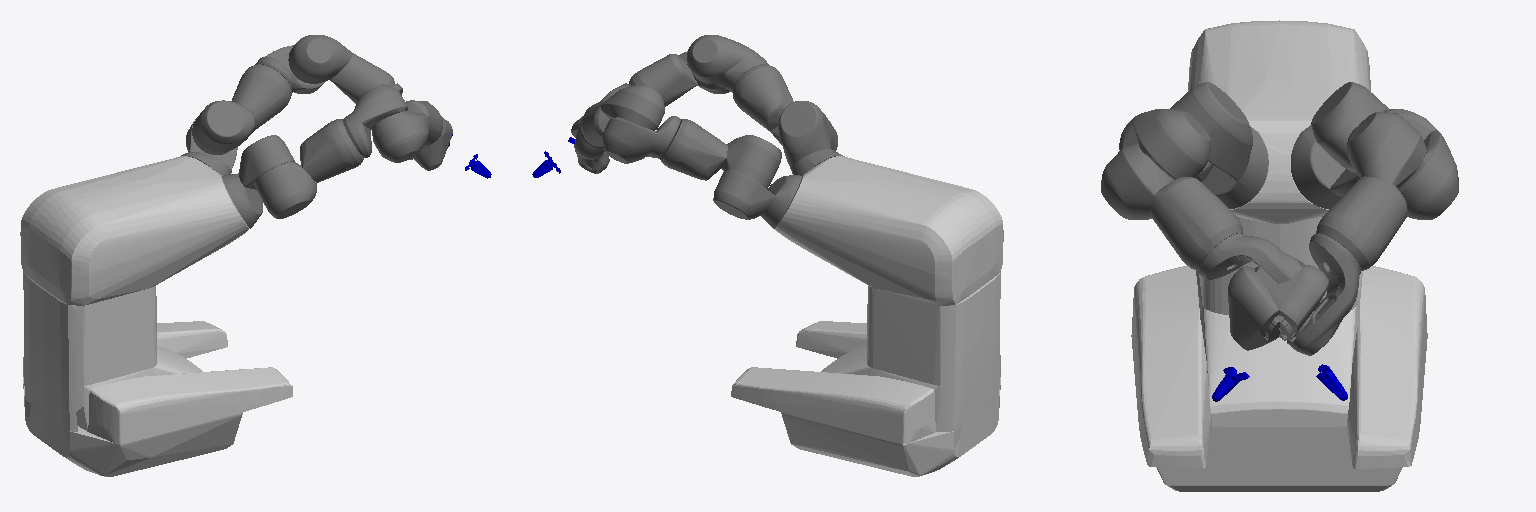
--- Render facts (derived) ---
The picture shows the robot from 3 angles, left to right: view 1: azimuth 30°, elevation 25°; view 2: azimuth 150°, elevation 25°; view 3: azimuth 270°, elevation 25°; orthographic projection.
Model yumi with 22 links and 21 joints (14 revolute, 4 prismatic, 3 fixed), rooted at yumi_base_link, posed all joints at 0.
Visible links, largest first — view 1: yumi_body, yumi_link_2_r, yumi_link_2_l, yumi_link_4_l, yumi_link_4_r, yumi_link_1_r, yumi_link_3_r, yumi_link_3_l, yumi_link_1_l, yumi_link_6_r; view 2: yumi_body, yumi_link_2_l, yumi_link_1_l, yumi_link_1_r, yumi_link_2_r, yumi_link_3_r, yumi_link_4_l, yumi_link_3_l, yumi_link_4_r, yumi_link_5_l; view 3: yumi_body, yumi_link_4_l, yumi_link_4_r, yumi_link_1_r, yumi_link_3_r, yumi_link_5_l, yumi_link_3_l, yumi_link_2_l, yumi_link_1_l, yumi_link_6_r, yumi_link_5_r, yumi_link_6_l.
Link boxes in pixels (x1,y1,x2,y2): yumi_body: (20,156,292,476); yumi_link_2_r: (254,119,363,218); yumi_link_2_l: (192,64,291,154); yumi_link_4_l: (288,35,394,103); yumi_link_4_r: (372,100,442,162); yumi_link_1_r: (222,135,294,228); yumi_link_3_r: (343,84,407,157); yumi_link_3_l: (255,45,325,93); yumi_link_1_l: (181,118,237,175); yumi_link_6_r: (412,119,452,170); yumi_body: (731,156,1003,476); yumi_link_2_l: (660,119,781,188); yumi_link_1_l: (713,170,801,228); yumi_link_1_r: (778,101,844,175); yumi_link_2_r: (733,64,837,150); yumi_link_3_r: (687,35,768,92); yumi_link_4_l: (581,85,664,146); yumi_link_3_l: (602,116,680,163); yumi_link_4_r: (629,51,729,106); yumi_link_5_l: (574,124,609,173); yumi_body: (1131,20,1427,491); yumi_link_4_l: (1316,112,1426,270); yumi_link_4_r: (1101,142,1242,270); yumi_link_1_r: (1170,82,1268,208); yumi_link_3_r: (1119,109,1210,179); yumi_link_5_l: (1287,234,1360,355); yumi_link_3_l: (1395,112,1458,219); yumi_link_2_l: (1311,82,1415,172); yumi_link_1_l: (1291,125,1359,209); yumi_link_6_r: (1228,266,1278,350); yumi_link_5_r: (1199,233,1304,283); yumi_link_6_l: (1255,265,1328,333).
Bounding box of the posed robot: 1.01 × 0.4824 × 0.7318 m (x, y, z).
Meshes: 10 distinct files referenced, 19 mesh visuals loaded (9 Collada DAE); not drawn: 2 (reference not matched to a file when rendering).

robot.urdf — yumi:
<?xml version="1.0" ?>
<!-- =================================================================================== -->
<!-- |    This document was autogenerated by xacro from yumi.urdf.xacro                | -->
<!-- |    EDITING THIS FILE BY HAND IS NOT RECOMMENDED                                 | -->
<!-- =================================================================================== -->
<robot name="yumi" xmlns:xacro="http://www.ros.org/wiki/xacro">
  <material name="Black">
    <color rgba="0.0 0.0 0.0 1.0"/>
  </material>
  <material name="Blue">
    <color rgba="0.0 0.0 0.8 1.0"/>
  </material>
  <material name="Green">
    <color rgba="0.0 0.8 0.0 1.0"/>
  </material>
  <material name="Grey">
    <color rgba="0.5 0.5 0.5 1.0"/>
  </material>
  <material name="Light_Grey">
    <color rgba="0.8 0.8 0.8 1.0"/>
  </material>
  <material name="Ivory">
    <color rgba="1.0 1.0 0.94 1.0"/>
  </material>
  <material name="Orange">
    <color rgba="1.0 0.423529411765 0.0392156862745 1.0"/>
  </material>
  <material name="Brown">
    <color rgba="0.870588235294 0.811764705882 0.764705882353 1.0"/>
  </material>
  <material name="Red">
    <color rgba="0.8 0.0 0.0 1.0"/>
  </material>
  <material name="White">
    <color rgba="1.0 1.0 1.0 1.0"/>
  </material>
  <gazebo>
    <plugin filename="libgazebo_ros_control.so" name="gazebo_ros_controller">
      <robotNamespace>/yumi</robotNamespace>
    </plugin>
  </gazebo>
  <link name="yumi_base_link"/>
  <joint name="yumi_base_link_to_body" type="fixed">
    <parent link="yumi_base_link"/>
    <child link="yumi_body"/>
    <origin rpy="0 0 0" xyz="0 0 0"/>
  </joint>
  <link name="yumi_body">
    <inertial>
      <origin rpy="0 0 0" xyz="0 0 0"/>
      <mass value="15"/>
      <inertia ixx="0.5" ixy="0" ixz="0" iyy="0.6" iyz="0" izz="0.3"/>
    </inertial>
    <visual>
      <origin rpy="0 0 0" xyz="0 0 0"/>
      <geometry>
        <mesh filename="package://meshes_dae/body.dae"/>
      </geometry>
      <material name="Light_Grey"/>
    </visual>
    <collision>
      <origin rpy="0 0 0" xyz="0 0 0"/>
      <geometry>
        <mesh filename="package://meshes_dae/coarse/body.dae"/>
      </geometry>
      <material name="Light_Grey"/>
    </collision>
  </link>
  <!--///////////////////////////////////// RIGHT ARM ////////////////////////////////  -->
  <!-- joint between body and link_1_r -->
  <joint name="yumi_joint_1_r" type="revolute">
    <parent link="yumi_body"/>
    <child link="yumi_link_1_r"/>
    <origin rpy="-0.9795   -0.5682   -2.3155" xyz="0.05355 -0.0725 0.41492"/>
    <axis xyz="0 0 1"/>
    <limit effort="300" lower="-2.94087978961" upper="2.94087978961" velocity="3.14159265359"/>
    <dynamics damping="0.5"/>
  </joint>
  <link name="yumi_link_1_r">
    <inertial>
      <origin rpy="0 0 0" xyz="0 -0.03 0.12"/>
      <mass value="2"/>
      <inertia ixx="0.1" ixy="0" ixz="0" iyy="0.1" iyz="0" izz="0.1"/>
    </inertial>
    <visual>
      <origin rpy="0 0 0" xyz="0 0 0"/>
      <geometry>
        <mesh filename="package://meshes_dae/link_1.dae"/>
      </geometry>
      <material name="Grey"/>
    </visual>
    <collision>
      <origin rpy="0 0 0" xyz="0 0 0"/>
      <geometry>
        <mesh filename="package://meshes_dae/coarse/link_1.dae"/>
      </geometry>
      <material name="Grey"/>
    </collision>
  </link>
  <!-- joint between link_1_r and link_2_r -->
  <joint name="yumi_joint_2_r" type="revolute">
    <parent link="yumi_link_1_r"/>
    <child link="yumi_link_2_r"/>
    <origin rpy="1.57079632679 0.0 0.0" xyz="0.03 0.0 0.1"/>
    <axis xyz="0 0 1"/>
    <limit effort="300" lower="-2.50454747661" upper="0.759218224618" velocity="3.14159265359"/>
    <dynamics damping="0.5"/>
  </joint>
  <link name="yumi_link_2_r">
    <inertial>
      <origin rpy="0 0 0" xyz="0 0 0"/>
      <mass value="2"/>
      <inertia ixx="0.1" ixy="0" ixz="0" iyy="0.1" iyz="0" izz="0.1"/>
    </inertial>
    <visual>
      <origin rpy="0 0 0" xyz="0 0 0"/>
      <geometry>
        <mesh filename="package://meshes_dae/link_2.dae"/>
      </geometry>
      <material name="Grey"/>
    </visual>
    <collision>
      <origin rpy="0 0 0" xyz="0 0 0"/>
      <geometry>
        <mesh filename="package://meshes_dae/coarse/link_2.dae"/>
      </geometry>
      <material name="Grey"/>
    </collision>
  </link>
  <!-- joint between link_2_r and link_3_r -->
  <joint name="yumi_joint_7_r" type="revolute">
    <parent link="yumi_link_2_r"/>
    <child link="yumi_link_3_r"/>
    <origin rpy="-1.57079632679 0.0 0.0" xyz="-0.03 0.17283 0.0"/>
    <axis xyz="0 0 1"/>
    <limit effort="300" lower="-2.94087978961" upper="2.94087978961" velocity="3.14159265359"/>
    <dynamics damping="0.5"/>
  </joint>
  <link name="yumi_link_3_r">
    <inertial>
      <origin rpy="0 0 0" xyz="0 0 0"/>
      <mass value="2"/>
      <inertia ixx="0.1" ixy="0" ixz="0" iyy="0.1" iyz="0" izz="0.1"/>
    </inertial>
    <visual>
      <origin rpy="0 0 0" xyz="0 0 0"/>
      <geometry>
        <mesh filename="package://meshes_dae/link_3.dae"/>
      </geometry>
      <material name="Grey"/>
    </visual>
    <collision>
      <origin rpy="0 0 0" xyz="0 0 0"/>
      <geometry>
        <mesh filename="package://meshes_dae/coarse/link_3.dae"/>
      </geometry>
      <material name="Grey"/>
    </collision>
  </link>
  <!-- joint between link_3_r and link_4_r -->
  <joint name="yumi_joint_3_r" type="revolute">
    <parent link="yumi_link_3_r"/>
    <child link="yumi_link_4_r"/>
    <origin rpy="1.57079632679 -1.57079632679 0.0" xyz="-0.04188 0.0 0.07873"/>
    <axis xyz="0 0 1"/>
    <limit effort="300" lower="-2.15548162621" upper="1.3962634016" velocity="3.14159265359"/>
    <dynamics damping="0.5"/>
  </joint>
  <link name="yumi_link_4_r">
    <inertial>
      <origin rpy="0 0 0" xyz="0 0 0"/>
      <mass value="2"/>
      <inertia ixx="0.1" ixy="0" ixz="0" iyy="0.1" iyz="0" izz="0.1"/>
    </inertial>
    <visual>
      <origin rpy="0 0 0" xyz="0 0 0"/>
      <geometry>
        <mesh filename="package://meshes_dae/link_4.dae"/>
      </geometry>
      <material name="Grey"/>
    </visual>
    <collision>
      <origin rpy="0 0 0" xyz="0 0 0"/>
      <geometry>
        <mesh filename="package://meshes_dae/coarse/link_4.dae"/>
      </geometry>
      <material name="Grey"/>
    </collision>
  </link>
  <!-- joint between link_4_r and link_5_r -->
  <joint name="yumi_joint_4_r" type="revolute">
    <parent link="yumi_link_4_r"/>
    <child link="yumi_link_5_r"/>
    <origin rpy="-1.57079632679 0.0 0.0" xyz="0.0405 0.16461 0.0"/>
    <axis xyz="0 0 1"/>
    <limit effort="300" lower="-5.06145483078" upper="5.06145483078" velocity="6.98131700798"/>
    <dynamics damping="0.5"/>
  </joint>
  <link name="yumi_link_5_r">
    <inertial>
      <origin rpy="0 0 0" xyz="0 0 0"/>
      <mass value="2"/>
      <inertia ixx="0.1" ixy="0" ixz="0" iyy="0.1" iyz="0" izz="0.1"/>
    </inertial>
    <visual>
      <origin rpy="0 0 0" xyz="0 0 0"/>
      <geometry>
        <mesh filename="package://meshes_dae/link_5.dae"/>
      </geometry>
      <material name="Grey"/>
    </visual>
    <collision>
      <origin rpy="0 0 0" xyz="0 0 0"/>
      <geometry>
        <mesh filename="package://meshes_dae/coarse/link_5.dae"/>
      </geometry>
      <material name="Grey"/>
    </collision>
  </link>
  <!-- joint between link_5_r and link_6_r -->
  <joint name="yumi_joint_5_r" type="revolute">
    <parent link="yumi_link_5_r"/>
    <child link="yumi_link_6_r"/>
    <origin rpy="1.57079632679 0.0 0.0" xyz="-0.027 0 0.10039"/>
    <axis xyz="0 0 1"/>
    <limit effort="300" lower="-1.53588974176" upper="2.40855436775" velocity="6.98131700798"/>
    <dynamics damping="0.5"/>
  </joint>
  <link name="yumi_link_6_r">
    <inertial>
      <origin rpy="0 0 0" xyz="0 0 0"/>
      <mass value="2"/>
      <inertia ixx="0.1" ixy="0" ixz="0" iyy="0.1" iyz="0" izz="0.1"/>
    </inertial>
    <visual>
      <origin rpy="0 0 0" xyz="0 0 0"/>
      <geometry>
        <mesh filename="package://meshes_dae/link_6.dae"/>
      </geometry>
      <material name="Grey"/>
    </visual>
    <collision>
      <origin rpy="0 0 0" xyz="0 0 0"/>
      <geometry>
        <mesh filename="package://meshes_dae/coarse/link_6.dae"/>
      </geometry>
      <material name="Grey"/>
    </collision>
  </link>
  <!-- joint between link_6_r and link_7_r -->
  <joint name="yumi_joint_6_r" type="revolute">
    <parent link="yumi_link_6_r"/>
    <child link="yumi_link_7_r"/>
    <origin rpy="-1.57079632679 0.0 0.0" xyz="0.027 0.029 0.0"/>
    <axis xyz="0 0 1"/>
    <limit effort="300" lower="-3.99680398707" upper="3.99680398707" velocity="6.98131700798"/>
    <dynamics damping="0.5"/>
  </joint>
  <link name="yumi_link_7_r">
    <inertial>
      <origin rpy="0 0 0" xyz="0 0 0"/>
      <mass value="2"/>
      <inertia ixx="0.1" ixy="0" ixz="0" iyy="0.1" iyz="0" izz="0.1"/>
    </inertial>
    <visual>
      <origin rpy="0 0 0" xyz="0 0 0"/>
      <geometry>
        <mesh filename="package://meshes_dae/link_7.dae"/>
      </geometry>
      <material name="Grey"/>
    </visual>
    <collision>
      <origin rpy="0 0 0" xyz="0 0 0"/>
      <geometry>
        <mesh filename="package://meshes_dae/coarse/link_7.dae"/>
      </geometry>
      <material name="Grey"/>
    </collision>
  </link>
  <!--///////////////////////////////////// LEFT ARM ////////////////////////////////  -->
  <!-- joint between body and link_1_l -->
  <joint name="yumi_joint_1_l" type="revolute">
    <parent link="yumi_body"/>
    <child link="yumi_link_1_l"/>
    <origin rpy="0.9781 -0.5716 2.3180" xyz="0.05355 0.07250 0.41492"/>
    <axis xyz="0 0 1"/>
    <limit effort="300" lower="-2.94087978961" upper="2.94087978961" velocity="3.14159265359"/>
    <dynamics damping="0.5"/>
  </joint>
  <link name="yumi_link_1_l">
    <inertial>
      <origin rpy="0 0 0" xyz="0 -0.03 0.12"/>
      <mass value="2"/>
      <inertia ixx="0.1" ixy="0" ixz="0" iyy="0.1" iyz="0" izz="0.1"/>
    </inertial>
    <visual>
      <origin rpy="0 0 0" xyz="0 0 0"/>
      <geometry>
        <mesh filename="package://meshes_dae/link_1.dae"/>
      </geometry>
      <material name="Grey"/>
    </visual>
    <collision>
      <origin rpy="0 0 0" xyz="0 0 0"/>
      <geometry>
        <mesh filename="package://meshes_dae/coarse/link_1.dae"/>
      </geometry>
      <material name="Grey"/>
    </collision>
  </link>
  <!-- joint between link_1_l and link_2_l -->
  <joint name="yumi_joint_2_l" type="revolute">
    <parent link="yumi_link_1_l"/>
    <child link="yumi_link_2_l"/>
    <origin rpy="1.57079632679 0.0 0.0" xyz="0.03 0.0 0.1"/>
    <axis xyz="0 0 1"/>
    <limit effort="300" lower="-2.50454747661" upper="0.759218224618" velocity="3.14159265359"/>
    <dynamics damping="0.5"/>
  </joint>
  <link name="yumi_link_2_l">
    <inertial>
      <origin rpy="0 0 0" xyz="0 0 0"/>
      <mass value="2"/>
      <inertia ixx="0.1" ixy="0" ixz="0" iyy="0.1" iyz="0" izz="0.1"/>
    </inertial>
    <visual>
      <origin rpy="0 0 0" xyz="0 0 0"/>
      <geometry>
        <mesh filename="package://meshes_dae/link_2.dae"/>
      </geometry>
      <material name="Grey"/>
    </visual>
    <collision>
      <origin rpy="0 0 0" xyz="0 0 0"/>
      <geometry>
        <mesh filename="package://meshes_dae/coarse/link_2.dae"/>
      </geometry>
      <material name="Grey"/>
    </collision>
  </link>
  <!-- joint between link_2_l and link_3_l -->
  <joint name="yumi_joint_7_l" type="revolute">
    <parent link="yumi_link_2_l"/>
    <child link="yumi_link_3_l"/>
    <origin rpy="-1.57079632679 0.0 0.0" xyz="-0.03 0.17283 0.0"/>
    <axis xyz="0 0 1"/>
    <limit effort="300" lower="-2.94087978961" upper="2.94087978961" velocity="3.14159265359"/>
    <dynamics damping="0.5"/>
  </joint>
  <link name="yumi_link_3_l">
    <inertial>
      <origin rpy="0 0 0" xyz="0 0 0"/>
      <mass value="2"/>
      <inertia ixx="0.1" ixy="0" ixz="0" iyy="0.1" iyz="0" izz="0.1"/>
    </inertial>
    <visual>
      <origin rpy="0 0 0" xyz="0 0 0"/>
      <geometry>
        <mesh filename="package://meshes_dae/link_3.dae"/>
      </geometry>
      <material name="Grey"/>
    </visual>
    <collision>
      <origin rpy="0 0 0" xyz="0 0 0"/>
      <geometry>
        <mesh filename="package://meshes_dae/coarse/link_3.dae"/>
      </geometry>
      <material name="Grey"/>
    </collision>
  </link>
  <!-- joint between link_3_l and link_4_l -->
  <joint name="yumi_joint_3_l" type="revolute">
    <parent link="yumi_link_3_l"/>
    <child link="yumi_link_4_l"/>
    <origin rpy="1.57079632679 -1.57079632679 0.0" xyz="-0.04188 0.0 0.07873"/>
    <axis xyz="0 0 1"/>
    <limit effort="300" lower="-2.15548162621" upper="1.3962634016" velocity="3.14159265359"/>
    <dynamics damping="0.5"/>
  </joint>
  <link name="yumi_link_4_l">
    <inertial>
      <origin rpy="0 0 0" xyz="0 0 0"/>
      <mass value="2"/>
      <inertia ixx="0.1" ixy="0" ixz="0" iyy="0.1" iyz="0" izz="0.1"/>
    </inertial>
    <visual>
      <origin rpy="0 0 0" xyz="0 0 0"/>
      <geometry>
        <mesh filename="package://meshes_dae/link_4.dae"/>
      </geometry>
      <material name="Grey"/>
    </visual>
    <collision>
      <origin rpy="0 0 0" xyz="0 0 0"/>
      <geometry>
        <mesh filename="package://meshes_dae/coarse/link_4.dae"/>
      </geometry>
      <material name="Grey"/>
    </collision>
  </link>
  <!-- joint between link_4_l and link_5_l -->
  <joint name="yumi_joint_4_l" type="revolute">
    <parent link="yumi_link_4_l"/>
    <child link="yumi_link_5_l"/>
    <origin rpy="-1.57079632679 0.0 0.0" xyz="0.0405 0.16461 0.0"/>
    <axis xyz="0 0 1"/>
    <limit effort="300" lower="-5.06145483078" upper="5.06145483078" velocity="6.98131700798"/>
    <dynamics damping="0.5"/>
  </joint>
  <link name="yumi_link_5_l">
    <inertial>
      <origin rpy="0 0 0" xyz="0 0 0"/>
      <mass value="2"/>
      <inertia ixx="0.1" ixy="0" ixz="0" iyy="0.1" iyz="0" izz="0.1"/>
    </inertial>
    <visual>
      <origin rpy="0 0 0" xyz="0 0 0"/>
      <geometry>
        <mesh filename="package://meshes_dae/link_5.dae"/>
      </geometry>
      <material name="Grey"/>
    </visual>
    <collision>
      <origin rpy="0 0 0" xyz="0 0 0"/>
      <geometry>
        <mesh filename="package://meshes_dae/coarse/link_5.dae"/>
      </geometry>
      <material name="Grey"/>
    </collision>
  </link>
  <!-- joint between link_5_l and link_6_l -->
  <joint name="yumi_joint_5_l" type="revolute">
    <parent link="yumi_link_5_l"/>
    <child link="yumi_link_6_l"/>
    <origin rpy="1.57079632679 0.0 0.0" xyz="-0.027 0 0.10039"/>
    <axis xyz="0 0 1"/>
    <limit effort="300" lower="-1.53588974176" upper="2.40855436775" velocity="6.98131700798"/>
    <dynamics damping="0.5"/>
  </joint>
  <link name="yumi_link_6_l">
    <inertial>
      <origin rpy="0 0 0" xyz="0 0 0"/>
      <mass value="2"/>
      <inertia ixx="0.1" ixy="0" ixz="0" iyy="0.1" iyz="0" izz="0.1"/>
    </inertial>
    <visual>
      <origin rpy="0 0 0" xyz="0 0 0"/>
      <geometry>
        <mesh filename="package://meshes_dae/link_6.dae"/>
      </geometry>
      <material name="Grey"/>
    </visual>
    <collision>
      <origin rpy="0 0 0" xyz="0 0 0"/>
      <geometry>
        <mesh filename="package://meshes_dae/coarse/link_6.dae"/>
      </geometry>
      <material name="Grey"/>
    </collision>
  </link>
  <!-- joint between link_6_l and link_7_l -->
  <joint name="yumi_joint_6_l" type="revolute">
    <parent link="yumi_link_6_l"/>
    <child link="yumi_link_7_l"/>
    <origin rpy="-1.57079632679 0.0 0.0" xyz="0.027 0.029 0.0"/>
    <axis xyz="0 0 1"/>
    <limit effort="300" lower="-3.99680398707" upper="3.99680398707" velocity="6.98131700798"/>
    <dynamics damping="0.5"/>
  </joint>
  <link name="yumi_link_7_l">
    <inertial>
      <origin rpy="0 0 0" xyz="0 0 0"/>
      <mass value="2"/>
      <inertia ixx="0.1" ixy="0" ixz="0" iyy="0.1" iyz="0" izz="0.1"/>
    </inertial>
    <visual>
      <origin rpy="0 0 0" xyz="0 0 0"/>
      <geometry>
        <mesh filename="package://meshes_dae/link_7.dae"/>
      </geometry>
      <material name="Grey"/>
    </visual>
    <collision>
      <origin rpy="0 0 0" xyz="0 0 0"/>
      <geometry>
        <mesh filename="package://meshes_dae/coarse/link_7.dae"/>
      </geometry>
      <material name="Grey"/>
    </collision>
  </link>
  <!-- Gazebo reference frame -->
  <gazebo reference="yumi_body">
    <material>Gazebo/Ivory</material>
    <mu1>0.2</mu1>
    <mu2>0.2</mu2>
  </gazebo>
  <transmission name="yumi_tran_1_r">
    <type>transmission_interface/SimpleTransmission</type>
    <joint name="yumi_joint_1_r">
      <hardwareInterface>hardware_interface/VelocityJointInterface</hardwareInterface>
    </joint>
    <actuator name="yumi_motor_1_r">
      <hardwareInterface>hardware_interface/VelocityJointInterface</hardwareInterface>
      <mechanicalReduction>1</mechanicalReduction>
    </actuator>
  </transmission>
  <transmission name="yumi_tran_2_r">
    <type>transmission_interface/SimpleTransmission</type>
    <joint name="yumi_joint_2_r">
      <hardwareInterface>hardware_interface/VelocityJointInterface</hardwareInterface>
    </joint>
    <actuator name="yumi_motor_2_r">
      <hardwareInterface>hardware_interface/VelocityJointInterface</hardwareInterface>
      <mechanicalReduction>1</mechanicalReduction>
    </actuator>
  </transmission>
  <transmission name="yumi_tran_3_r">
    <type>transmission_interface/SimpleTransmission</type>
    <joint name="yumi_joint_3_r">
      <hardwareInterface>hardware_interface/VelocityJointInterface</hardwareInterface>
    </joint>
    <actuator name="yumi_motor_3_r">
      <hardwareInterface>hardware_interface/VelocityJointInterface</hardwareInterface>
      <mechanicalReduction>1</mechanicalReduction>
    </actuator>
  </transmission>
  <transmission name="yumi_tran_4_r">
    <type>transmission_interface/SimpleTransmission</type>
    <joint name="yumi_joint_4_r">
      <hardwareInterface>hardware_interface/VelocityJointInterface</hardwareInterface>
    </joint>
    <actuator name="yumi_motor_4_r">
      <hardwareInterface>hardware_interface/VelocityJointInterface</hardwareInterface>
      <mechanicalReduction>1</mechanicalReduction>
    </actuator>
  </transmission>
  <transmission name="yumi_tran_5_r">
    <type>transmission_interface/SimpleTransmission</type>
    <joint name="yumi_joint_5_r">
      <hardwareInterface>hardware_interface/VelocityJointInterface</hardwareInterface>
    </joint>
    <actuator name="yumi_motor_5_r">
      <hardwareInterface>hardware_interface/VelocityJointInterface</hardwareInterface>
      <mechanicalReduction>1</mechanicalReduction>
    </actuator>
  </transmission>
  <transmission name="yumi_tran_6_r">
    <type>transmission_interface/SimpleTransmission</type>
    <joint name="yumi_joint_6_r">
      <hardwareInterface>hardware_interface/VelocityJointInterface</hardwareInterface>
    </joint>
    <actuator name="yumi_motor_6_r">
      <hardwareInterface>hardware_interface/VelocityJointInterface</hardwareInterface>
      <mechanicalReduction>1</mechanicalReduction>
    </actuator>
  </transmission>
  <transmission name="yumi_tran_7_r">
    <type>transmission_interface/SimpleTransmission</type>
    <joint name="yumi_joint_7_r">
      <hardwareInterface>hardware_interface/VelocityJointInterface</hardwareInterface>
    </joint>
    <actuator name="yumi_motor_7_r">
      <hardwareInterface>hardware_interface/VelocityJointInterface</hardwareInterface>
      <mechanicalReduction>1</mechanicalReduction>
    </actuator>
  </transmission>
  <transmission name="yumi_tran_1_l">
    <type>transmission_interface/SimpleTransmission</type>
    <joint name="yumi_joint_1_l">
      <hardwareInterface>hardware_interface/VelocityJointInterface</hardwareInterface>
    </joint>
    <actuator name="yumi_motor_1_l">
      <hardwareInterface>hardware_interface/VelocityJointInterface</hardwareInterface>
      <mechanicalReduction>1</mechanicalReduction>
    </actuator>
  </transmission>
  <transmission name="yumi_tran_2_l">
    <type>transmission_interface/SimpleTransmission</type>
    <joint name="yumi_joint_2_l">
      <hardwareInterface>hardware_interface/VelocityJointInterface</hardwareInterface>
    </joint>
    <actuator name="yumi_motor_2_l">
      <hardwareInterface>hardware_interface/VelocityJointInterface</hardwareInterface>
      <mechanicalReduction>1</mechanicalReduction>
    </actuator>
  </transmission>
  <transmission name="yumi_tran_3_l">
    <type>transmission_interface/SimpleTransmission</type>
    <joint name="yumi_joint_3_l">
      <hardwareInterface>hardware_interface/VelocityJointInterface</hardwareInterface>
    </joint>
    <actuator name="yumi_motor_3_l">
      <hardwareInterface>hardware_interface/VelocityJointInterface</hardwareInterface>
      <mechanicalReduction>1</mechanicalReduction>
    </actuator>
  </transmission>
  <transmission name="yumi_tran_4_l">
    <type>transmission_interface/SimpleTransmission</type>
    <joint name="yumi_joint_4_l">
      <hardwareInterface>hardware_interface/VelocityJointInterface</hardwareInterface>
    </joint>
    <actuator name="yumi_motor_4_l">
      <hardwareInterface>hardware_interface/VelocityJointInterface</hardwareInterface>
      <mechanicalReduction>1</mechanicalReduction>
    </actuator>
  </transmission>
  <transmission name="yumi_tran_5_l">
    <type>transmission_interface/SimpleTransmission</type>
    <joint name="yumi_joint_5_l">
      <hardwareInterface>hardware_interface/VelocityJointInterface</hardwareInterface>
    </joint>
    <actuator name="yumi_motor_5_l">
      <hardwareInterface>hardware_interface/VelocityJointInterface</hardwareInterface>
      <mechanicalReduction>1</mechanicalReduction>
    </actuator>
  </transmission>
  <transmission name="yumi_tran_6_l">
    <type>transmission_interface/SimpleTransmission</type>
    <joint name="yumi_joint_6_l">
      <hardwareInterface>hardware_interface/VelocityJointInterface</hardwareInterface>
    </joint>
    <actuator name="yumi_motor_6_l">
      <hardwareInterface>hardware_interface/VelocityJointInterface</hardwareInterface>
      <mechanicalReduction>1</mechanicalReduction>
    </actuator>
  </transmission>
  <transmission name="yumi_tran_7_l">
    <type>transmission_interface/SimpleTransmission</type>
    <joint name="yumi_joint_7_l">
      <hardwareInterface>hardware_interface/VelocityJointInterface</hardwareInterface>
    </joint>
    <actuator name="yumi_motor_7_l">
      <hardwareInterface>hardware_interface/VelocityJointInterface</hardwareInterface>
      <mechanicalReduction>1</mechanicalReduction>
    </actuator>
  </transmission>
  <!--joint between {parent} and base-->
  <joint name="yumi_link_7_r_joint" type="fixed">
    <origin rpy="0 0 3.14159265359" xyz="0 0 0.007"/>
    <parent link="yumi_link_7_r"/>
    <child link="gripper_r_base"/>
  </joint>
  <link name="gripper_r_base">
    <inertial>
      <origin rpy="0 0 0" xyz="0 0 0"/>
      <mass value="0.2"/>
      <inertia ixx="0.0001" ixy="0" ixz="0" iyy="0.0001" iyz="0" izz="0.0001"/>
    </inertial>
    <visual>
      <origin rpy="0 0 0" xyz="0 0 0"/>
      <geometry>
        <mesh filename="package://meshes_dae/gripper/base.dae"/>
      </geometry>
      <material name="Light_Grey"/>
    </visual>
    <collision>
      <origin rpy="0 0 0" xyz="0 0 0"/>
      <geometry>
        <mesh filename="package://meshes_dae/gripper/base.dae"/>
      </geometry>
      <material name="Light_Grey"/>
    </collision>
  </link>
  <!-- joint between base and right finger -->
  <joint name="gripper_r_joint" type="prismatic">
    <parent link="gripper_r_base"/>
    <child link="gripper_r_finger_r"/>
    <origin rpy="0 0 0" xyz="0 -0.0065 0.0837"/>
    <axis xyz="-1 0 0"/>
    <limit effort="20" lower="0" upper="0.025" velocity="2"/>
    <dynamics damping="1.0"/>
  </joint>
  <link name="gripper_r_finger_r">
    <inertial>
      <origin rpy="0 0 0" xyz="0 0 0"/>
      <mass value="0.01"/>
      <inertia ixx="0.000001" ixy="0" ixz="0" iyy="0.000001" iyz="0" izz="0.000001"/>
    </inertial>
    <visual>
      <origin rpy="0 0 0" xyz="0 0 0"/>
      <geometry>
        <mesh filename="package://meshes_dae/gripper/finger.dae"/>
      </geometry>
      <material name="Blue"/>
    </visual>
    <collision>
      <origin rpy="0 0 0" xyz="0 0 0"/>
      <geometry>
        <mesh filename="package://meshes_dae/gripper/finger.dae"/>
      </geometry>
      <material name="Blue"/>
    </collision>
  </link>
  <!-- joint between base and left finger -->
  <joint name="gripper_r_joint_m" type="prismatic">
    <parent link="gripper_r_base"/>
    <child link="gripper_r_finger_l"/>
    <origin rpy="0 0 3.14159265359" xyz="0 0.0065 0.0837"/>
    <axis xyz="-1 0 0"/>
    <limit effort="20" lower="0" upper="0.025" velocity="2"/>
    <dynamics damping="1.0"/>
    <mimic joint="gripper_r_joint"/>
  </joint>
  <link name="gripper_r_finger_l">
    <inertial>
      <origin rpy="0 0 0" xyz="0 0 0"/>
      <mass value="0.01"/>
      <inertia ixx="0.000001" ixy="0" ixz="0" iyy="0.000001" iyz="0" izz="0.000001"/>
    </inertial>
    <visual>
      <origin rpy="0 0 0" xyz="0 0 0"/>
      <geometry>
        <mesh filename="package://meshes_dae/gripper/finger.dae"/>
      </geometry>
      <material name="Blue"/>
    </visual>
    <collision>
      <origin rpy="0 0 0" xyz="0 0 0"/>
      <geometry>
        <mesh filename="package://meshes_dae/gripper/finger.dae"/>
      </geometry>
      <material name="Blue"/>
    </collision>
  </link>
  <!-- Plugin for the mimic o/c joint - AFAIK, that shouldn't be necessary any more starting with Gazebo 3.0 -->
  <gazebo>
    <plugin filename="libgazebo_mimic_plugin.so" name="mimic_plugin">
      <joint>gripper_r_joint</joint>
      <mimicJoint>gripper_r_joint_m</mimicJoint>
      <multiplier>1.0</multiplier>
    </plugin>
  </gazebo>
  <!-- body -->
  <gazebo reference="gripper_r_base">
    <material>Gazebo/Light_Grey</material>
    <mu1>0.2</mu1>
    <mu2>0.2</mu2>
  </gazebo>
  <transmission name="gripper_r_tran">
    <type>transmission_interface/SimpleTransmission</type>
    <joint name="gripper_r_joint">
      <hardwareInterface>hardware_interface/EffortJoinInterface</hardwareInterface>
    </joint>
    <actuator name="gripper_r_motor">
      <hardwareInterface>hardware_interface/EffortJoinInterface</hardwareInterface>
      <mechanicalReduction>1</mechanicalReduction>
    </actuator>
  </transmission>
  <!--joint between {parent} and base-->
  <joint name="yumi_link_7_l_joint" type="fixed">
    <origin rpy="0 0 3.14159265359" xyz="0 0 0.007"/>
    <parent link="yumi_link_7_l"/>
    <child link="gripper_l_base"/>
  </joint>
  <link name="gripper_l_base">
    <inertial>
      <origin rpy="0 0 0" xyz="0 0 0"/>
      <mass value="0.2"/>
      <inertia ixx="0.0001" ixy="0" ixz="0" iyy="0.0001" iyz="0" izz="0.0001"/>
    </inertial>
    <visual>
      <origin rpy="0 0 0" xyz="0 0 0"/>
      <geometry>
        <mesh filename="package://meshes_dae/gripper/base.dae"/>
      </geometry>
      <material name="Light_Grey"/>
    </visual>
    <collision>
      <origin rpy="0 0 0" xyz="0 0 0"/>
      <geometry>
        <mesh filename="package://meshes_dae/gripper/base.dae"/>
      </geometry>
      <material name="Light_Grey"/>
    </collision>
  </link>
  <!-- joint between base and right finger -->
  <joint name="gripper_l_joint" type="prismatic">
    <parent link="gripper_l_base"/>
    <child link="gripper_l_finger_r"/>
    <origin rpy="0 0 0" xyz="0 -0.0065 0.0837"/>
    <axis xyz="-1 0 0"/>
    <limit effort="20" lower="0" upper="0.025" velocity="2"/>
    <dynamics damping="1.0"/>
  </joint>
  <link name="gripper_l_finger_r">
    <inertial>
      <origin rpy="0 0 0" xyz="0 0 0"/>
      <mass value="0.01"/>
      <inertia ixx="0.000001" ixy="0" ixz="0" iyy="0.000001" iyz="0" izz="0.000001"/>
    </inertial>
    <visual>
      <origin rpy="0 0 0" xyz="0 0 0"/>
      <geometry>
        <mesh filename="package://meshes_dae/gripper/finger.dae"/>
      </geometry>
      <material name="Blue"/>
    </visual>
    <collision>
      <origin rpy="0 0 0" xyz="0 0 0"/>
      <geometry>
        <mesh filename="package://meshes_dae/gripper/finger.dae"/>
      </geometry>
      <material name="Blue"/>
    </collision>
  </link>
  <!-- joint between base and left finger -->
  <joint name="gripper_l_joint_m" type="prismatic">
    <parent link="gripper_l_base"/>
    <child link="gripper_l_finger_l"/>
    <origin rpy="0 0 3.14159265359" xyz="0 0.0065 0.0837"/>
    <axis xyz="-1 0 0"/>
    <limit effort="20" lower="0" upper="0.025" velocity="2"/>
    <dynamics damping="1.0"/>
    <mimic joint="gripper_l_joint"/>
  </joint>
  <link name="gripper_l_finger_l">
    <inertial>
      <origin rpy="0 0 0" xyz="0 0 0"/>
      <mass value="0.01"/>
      <inertia ixx="0.000001" ixy="0" ixz="0" iyy="0.000001" iyz="0" izz="0.000001"/>
    </inertial>
    <visual>
      <origin rpy="0 0 0" xyz="0 0 0"/>
      <geometry>
        <mesh filename="package://meshes_dae/gripper/finger.dae"/>
      </geometry>
      <material name="Blue"/>
    </visual>
    <collision>
      <origin rpy="0 0 0" xyz="0 0 0"/>
      <geometry>
        <mesh filename="package://meshes_dae/gripper/finger.dae"/>
      </geometry>
      <material name="Blue"/>
    </collision>
  </link>
  <!-- Plugin for the mimic o/c joint - AFAIK, that shouldn't be necessary any more starting with Gazebo 3.0 -->
  <gazebo>
    <plugin filename="libgazebo_mimic_plugin.so" name="mimic_plugin">
      <joint>gripper_l_joint</joint>
      <mimicJoint>gripper_l_joint_m</mimicJoint>
      <multiplier>1.0</multiplier>
    </plugin>
  </gazebo>
  <!-- body -->
  <gazebo reference="gripper_l_base">
    <material>Gazebo/Light_Grey</material>
    <mu1>0.2</mu1>
    <mu2>0.2</mu2>
  </gazebo>
  <transmission name="gripper_l_tran">
    <type>transmission_interface/SimpleTransmission</type>
    <joint name="gripper_l_joint">
      <hardwareInterface>hardware_interface/EffortJoinInterface</hardwareInterface>
    </joint>
    <actuator name="gripper_l_motor">
      <hardwareInterface>hardware_interface/EffortJoinInterface</hardwareInterface>
      <mechanicalReduction>1</mechanicalReduction>
    </actuator>
  </transmission>
  <!-- Pure YuMi URDF, with no joints connecting it to any other robot or pedestal. Neither accessories. -->
</robot>
